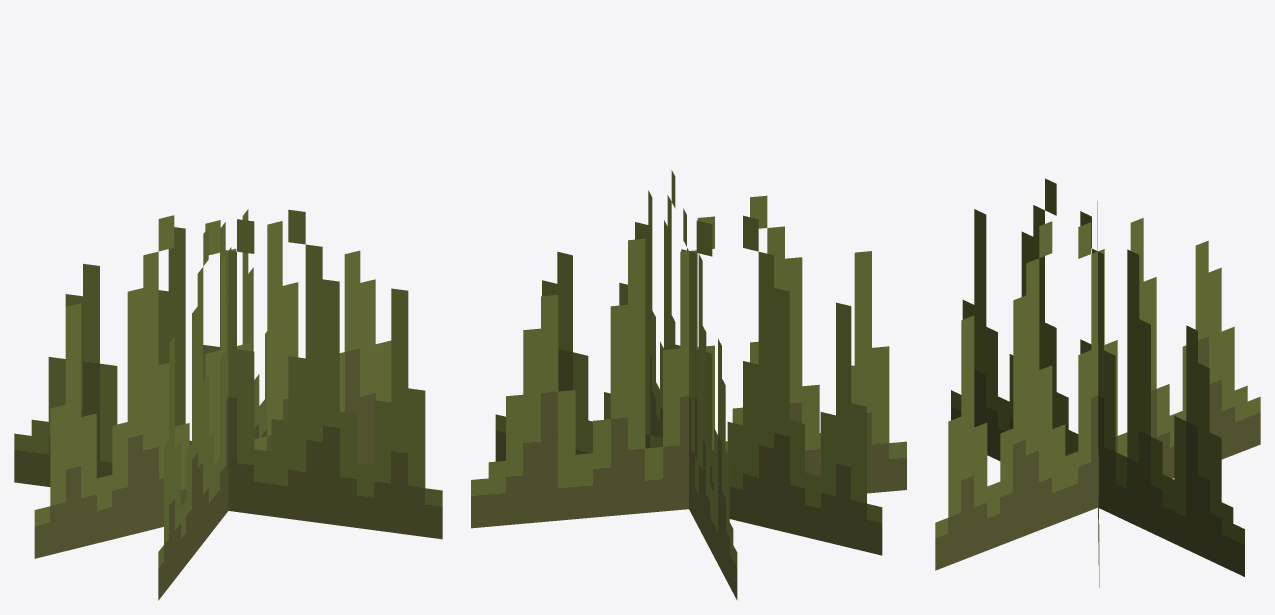
The model's file is Grass2.glb.
3 views of the same model, side by side, from view 1: azimuth 30°, elevation 25°; view 2: azimuth 150°, elevation 25°; view 3: azimuth 270°, elevation 25° (orthographic).
Parts seen in each view (by area): view 1: Plane; view 2: Plane; view 3: Plane.
Boxes of the visible parts, x1,y1,x2,y2 form: Plane: [14, 209, 442, 600]; Plane: [471, 170, 906, 600]; Plane: [935, 178, 1260, 587].
Bounding box in the file's own units: 2 × 2 × 1.47.
1 material, 1 textured.
